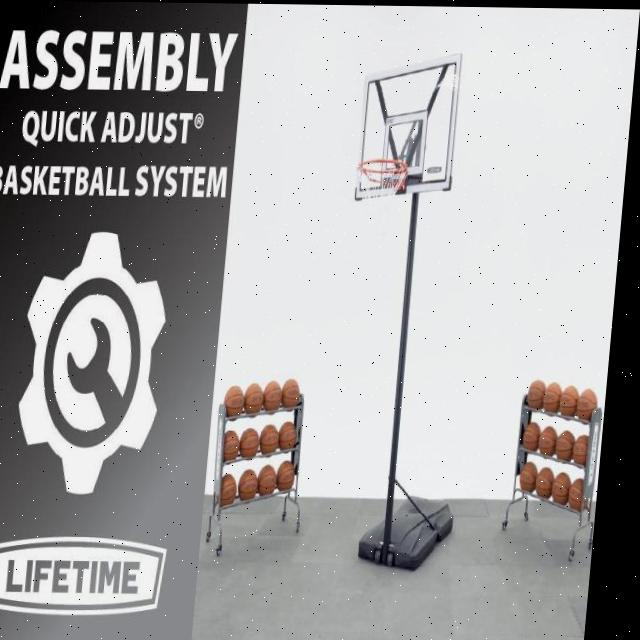Basketball: (567, 477, 590, 512), (576, 390, 600, 423), (223, 386, 247, 418), (550, 472, 572, 506), (256, 464, 278, 497), (242, 384, 265, 415), (262, 380, 284, 412), (554, 431, 576, 463), (237, 469, 259, 501), (534, 467, 555, 500), (280, 379, 301, 411), (258, 425, 280, 455), (238, 429, 260, 459), (519, 461, 539, 494), (542, 383, 563, 414), (559, 386, 580, 417), (275, 460, 296, 491), (222, 430, 241, 464), (219, 474, 238, 508), (538, 427, 558, 459), (526, 380, 547, 410), (572, 436, 590, 468), (278, 422, 297, 452), (522, 423, 542, 451)
hoop: (351, 159, 409, 236)
